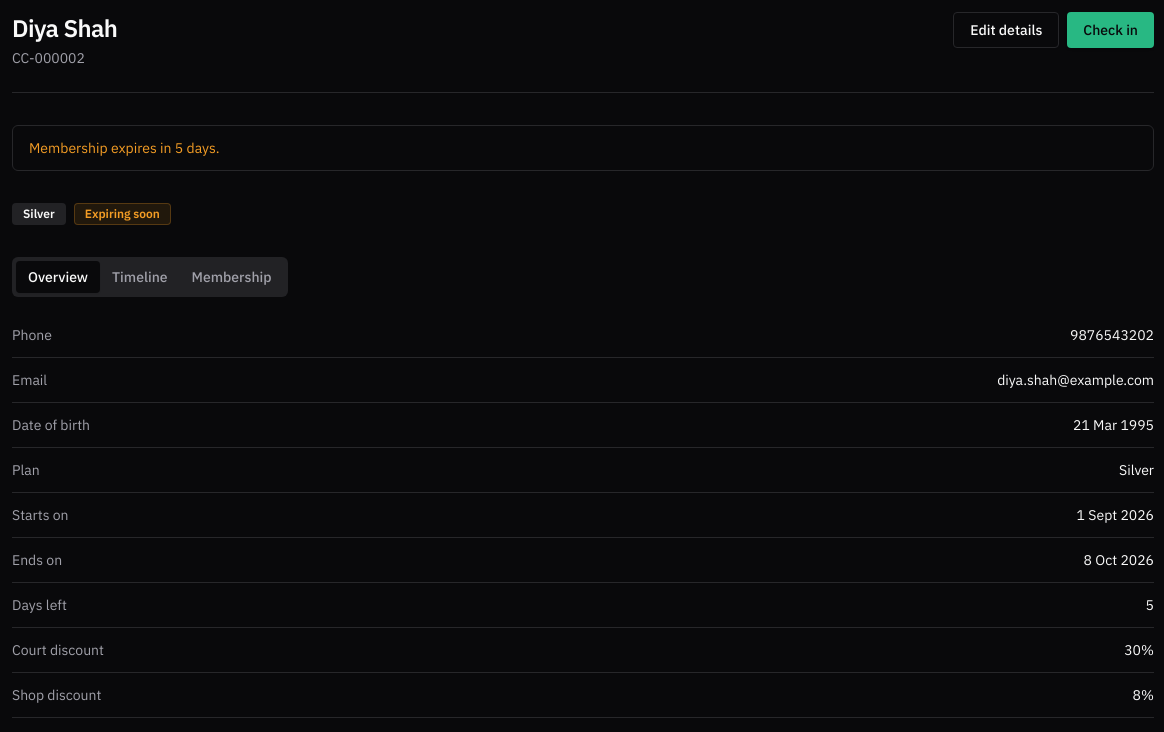
it: member profile › shows profile fields and expiring notice, then switches to mixed activity
Check: the heading "Diya Shah" is shown, box 12,12 -> 117,44
Check: the message shows "Membership expires in 5 days", box 12,125 -> 1154,171
Press the mouse on the tab "Timeline" at {"x": 140, "y": 277}, box 100,261 -> 180,293
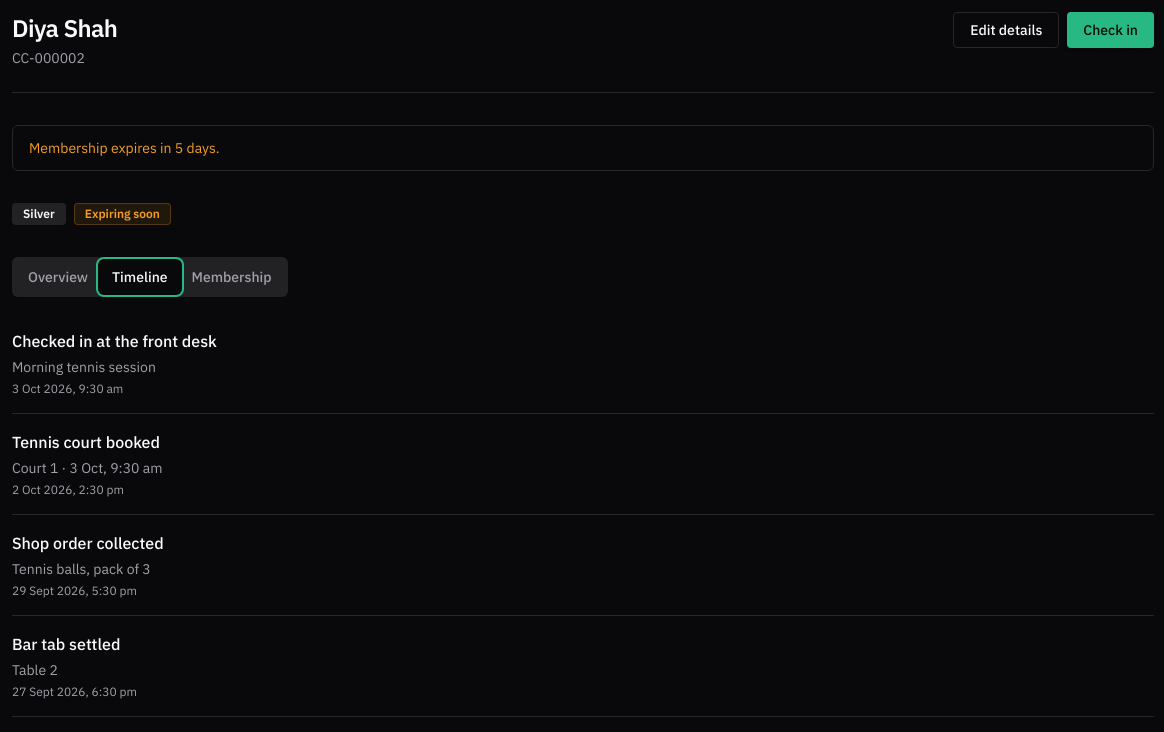
Check: the text "Tennis court booked" is shown, box 12,430 -> 162,454
Check: the text "9876543202" is gone
